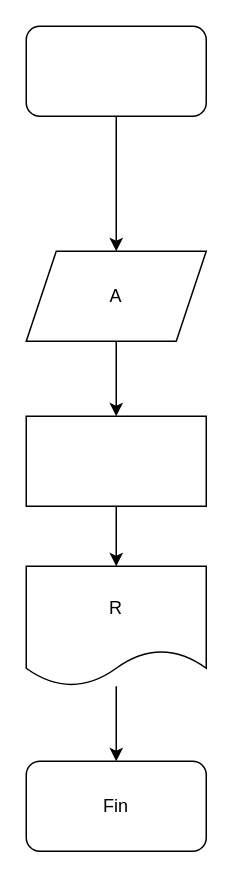
The diagram is 233 pixels wide and 878 high, and some of its shapes have lost their labels. The box of each missing label's shape, as (x1, y1, x2, y2) in pixels:
Inicio: (25, 25, 206, 116)
R = A * A * 3,14: (25, 415, 206, 506)
